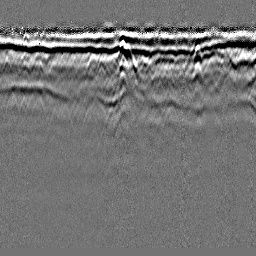cavity: (119, 37, 137, 69)
